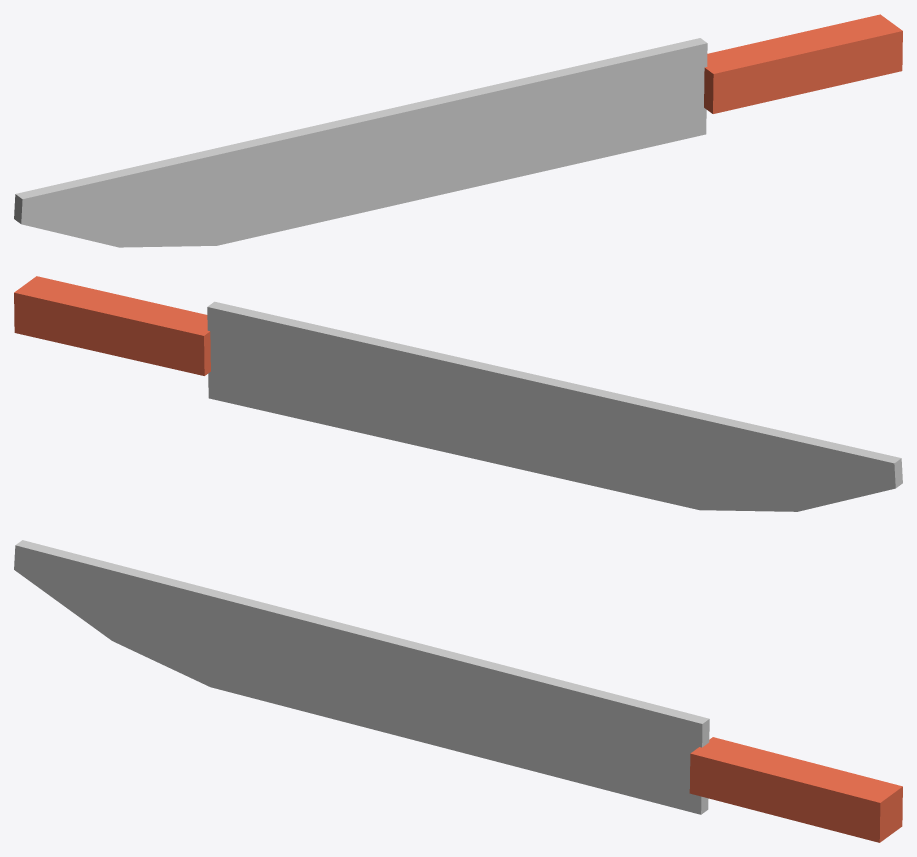
The model's file is sword.FBX.
3 renders of one model, top to bottom at view 1: azimuth 30°, elevation 25°; view 2: azimuth 150°, elevation 25°; view 3: azimuth 330°, elevation 25°, orthographic.
Visible parts, largest first — view 1: Box028, Box029; view 2: Box028, Box029; view 3: Box028, Box029.
Part boxes in pixels (x1,y1,x2,y2): Box028: (14, 38, 707, 247); Box029: (704, 14, 902, 113); Box028: (207, 301, 902, 511); Box029: (14, 276, 210, 375); Box028: (14, 540, 709, 814); Box029: (689, 737, 902, 842).
Bounding box in the file's own units: 19.78 × 2.21 × 0.886.
